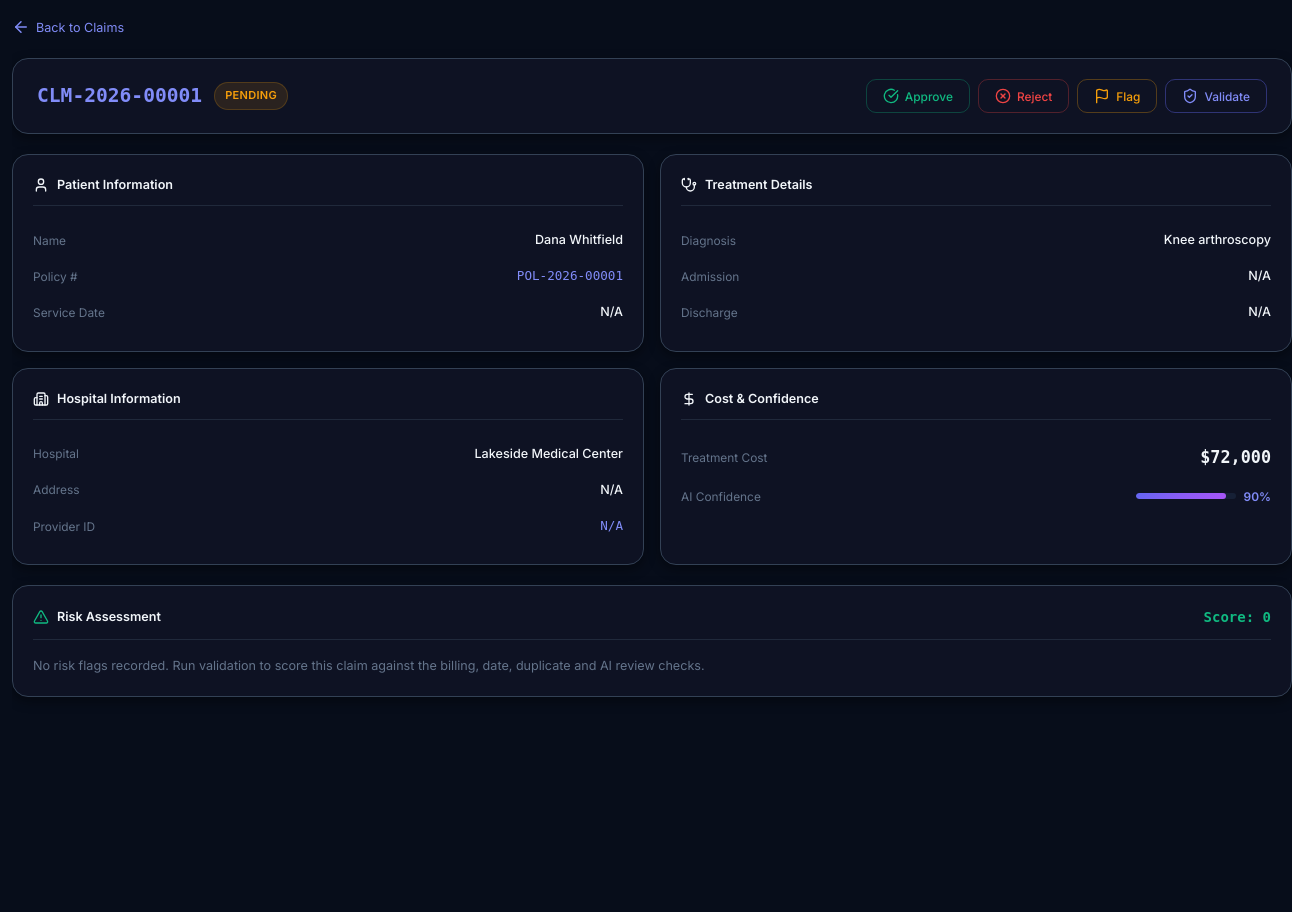
Scenario: ClaimDetailPage › runs validation and shows the risk result
What coordinates should you click on to do the following:
click the button "Validate"
I would click on:
 (1216, 96)
Its box is x1=1165 y1=79 x2=1267 y2=113.
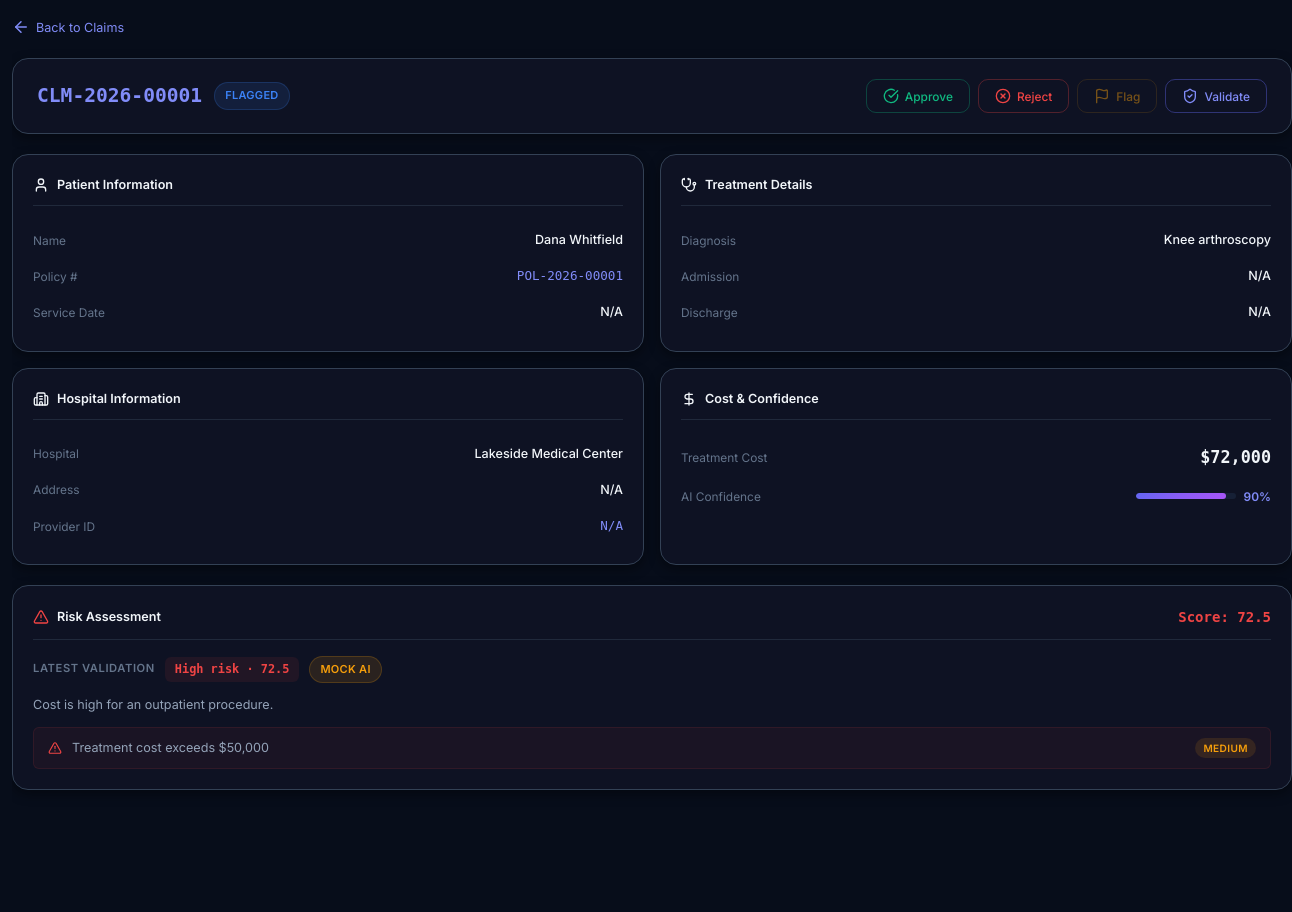
Check: the text "Cost is high for an outpatient procedure." is shown, box x1=33 y1=697 x2=273 y2=712
Check: the text "High risk · 72.5" is shown, box x1=165 y1=657 x2=299 y2=682
Check: the text "Treatment cost exceeds $50,000" is shown, box x1=72 y1=740 x2=269 y2=755
